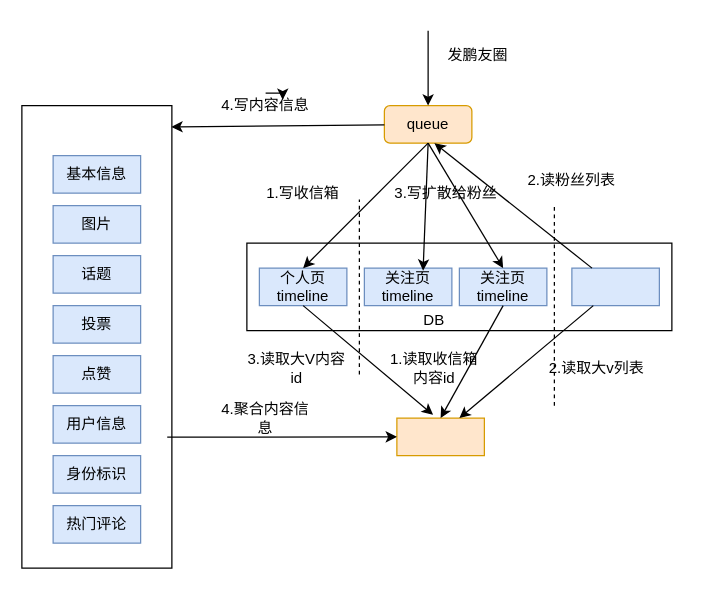
Image size: 706x590. Some labels were removed from this diagram. The shapes that lost their labels are listed below. From the top down, each one's centre as x and y in pixels, then its label:
the point at 615,286: 关注列表
the point at 440,436: merge
